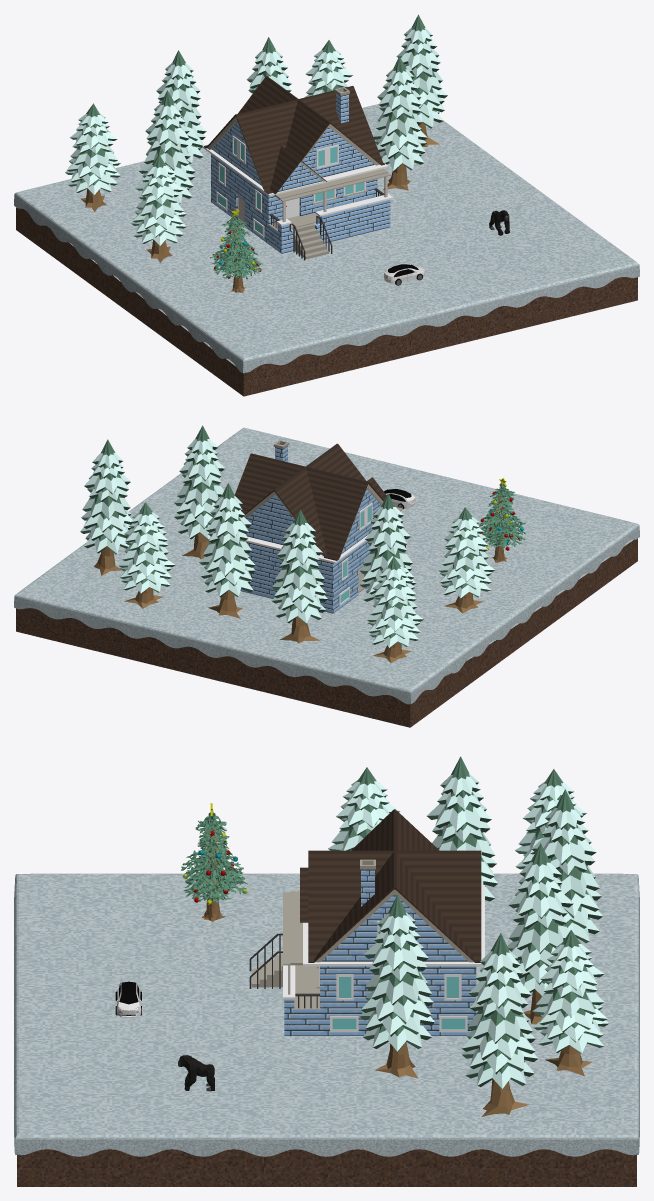
The picture shows the model from 3 angles, top to bottom: view 1: azimuth 30°, elevation 25°; view 2: azimuth 150°, elevation 25°; view 3: azimuth 270°, elevation 25°; orthographic projection. The views are drawn at different scales.
Visible parts, largest first — view 1: Cube.003, Cube.547, OBJRANDOM_CHRISTMAS_TREE, VEHICLES_TESLA; view 2: Cube.003, Cube.547, OBJRANDOM_CHRISTMAS_TREE, VEHICLES_TESLA; view 3: Cube.003, Cube.547, OBJRANDOM_CHRISTMAS_TREE, VEHICLES_TESLA, ANIMAL_GORILA.
Part boxes in pixels (x1,y1,x2,y2): Cube.003: [14, 14, 639, 396]; Cube.547: [202, 76, 393, 260]; OBJRANDOM_CHRISTMAS_TREE: [210, 209, 262, 292]; VEHICLES_TESLA: [384, 264, 424, 285]; Cube.003: [14, 425, 639, 727]; Cube.547: [235, 440, 405, 613]; OBJRANDOM_CHRISTMAS_TREE: [479, 478, 525, 562]; VEHICLES_TESLA: [383, 489, 415, 508]; Cube.003: [14, 756, 639, 1186]; Cube.547: [249, 809, 484, 1035]; OBJRANDOM_CHRISTMAS_TREE: [181, 803, 248, 922]; VEHICLES_TESLA: [115, 981, 141, 1017]; ANIMAL_GORILA: [178, 1055, 214, 1091].
Bounding box in the file's own units: 4040 × 1665 × 4040.
Materials: 29 (4 with a texture image).
